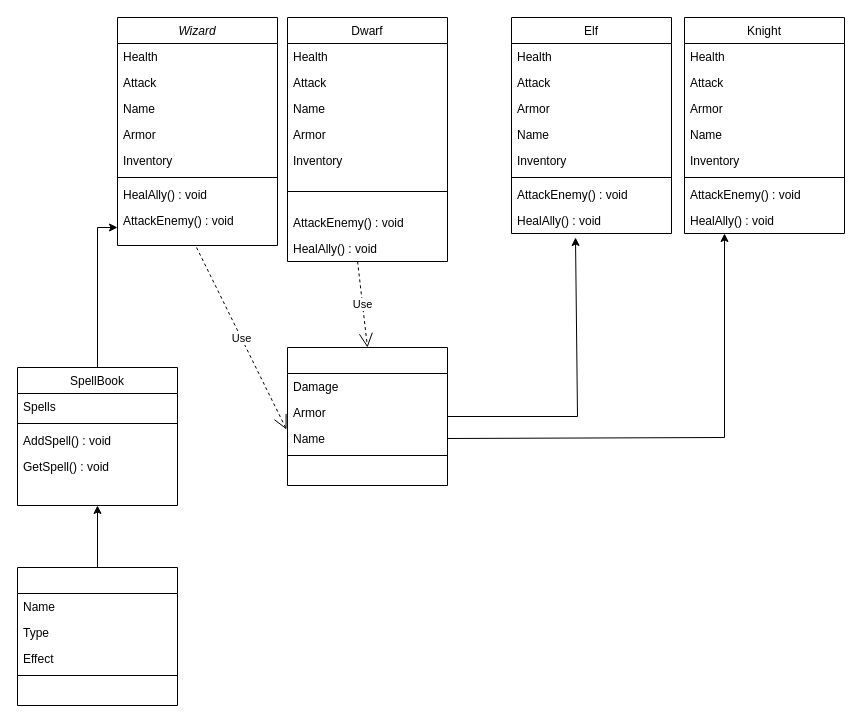
Image size: 862x723. Some labels were removed from this diagram. The shapes that lost their labels are listed below. From the top down, each one's box as (x1, y1, x2, y2) in pixels, then its label:
(286, 346, 448, 486): Item
(16, 566, 178, 706): Spell
